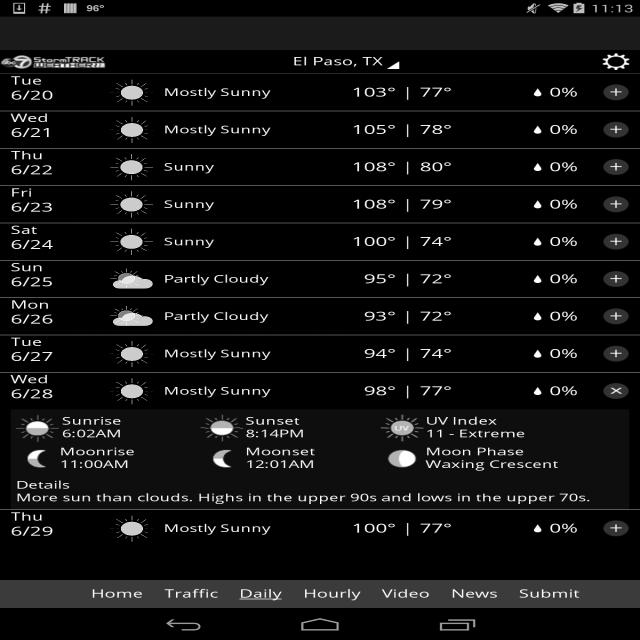ImageView: (0, 17, 640, 608), (0, 50, 107, 73), (15, 415, 60, 442), (110, 79, 153, 106), (110, 116, 153, 143), (110, 191, 153, 218), (110, 228, 153, 255), (110, 303, 153, 330), (110, 340, 153, 367), (15, 445, 58, 472), (110, 515, 153, 542), (201, 445, 243, 472), (381, 445, 423, 472), (110, 154, 153, 180), (110, 266, 153, 292), (110, 378, 153, 404), (201, 415, 243, 441), (381, 415, 423, 441), (603, 154, 629, 180), (603, 266, 629, 292), (603, 378, 629, 404), (603, 80, 629, 105), (603, 117, 629, 142), (603, 192, 629, 217), (603, 229, 629, 254), (603, 304, 629, 329), (603, 341, 629, 366), (603, 516, 629, 541), (597, 53, 635, 70), (524, 125, 549, 134), (524, 88, 549, 96), (524, 163, 549, 171), (524, 200, 549, 208), (524, 275, 549, 283), (524, 312, 549, 320), (524, 350, 549, 358), (524, 387, 549, 395), (524, 524, 549, 532), (524, 238, 549, 245)
TextView: (16, 491, 591, 504), (288, 50, 417, 73), (153, 86, 292, 99), (153, 123, 292, 136), (153, 198, 292, 211), (153, 235, 292, 248), (153, 310, 292, 323), (153, 347, 292, 360), (153, 522, 292, 535), (426, 458, 558, 471), (153, 161, 292, 173), (153, 273, 292, 285), (153, 385, 292, 397), (426, 427, 525, 440), (426, 445, 524, 458), (326, 159, 396, 175), (326, 271, 396, 287), (326, 383, 396, 399), (420, 159, 489, 175), (420, 271, 489, 287), (420, 383, 489, 399), (326, 85, 396, 100), (326, 122, 396, 137), (326, 197, 396, 212), (326, 234, 396, 249), (326, 309, 396, 324), (326, 346, 396, 361), (326, 521, 396, 536), (420, 85, 489, 100), (420, 122, 489, 137), (420, 197, 489, 212), (420, 234, 489, 249), (420, 309, 489, 324), (420, 346, 489, 361), (420, 521, 489, 536), (60, 445, 135, 458), (246, 445, 316, 458), (245, 458, 315, 471), (60, 458, 129, 471), (549, 159, 603, 175), (549, 271, 603, 287), (549, 383, 603, 399), (519, 587, 580, 601), (426, 415, 497, 427), (549, 85, 603, 100), (549, 122, 603, 137), (549, 197, 603, 212), (549, 234, 603, 249), (549, 309, 603, 324), (549, 346, 603, 361), (549, 521, 603, 536), (304, 587, 361, 601), (62, 427, 121, 440), (164, 587, 218, 601), (246, 427, 304, 440), (91, 587, 143, 601), (62, 415, 121, 427), (11, 162, 53, 178), (11, 274, 53, 290), (11, 386, 53, 402), (382, 587, 430, 601), (245, 415, 300, 427), (451, 587, 498, 601), (16, 479, 70, 491), (11, 88, 53, 103), (11, 125, 53, 140), (11, 200, 53, 215), (11, 237, 53, 252), (11, 312, 53, 327), (11, 349, 53, 364), (11, 524, 53, 539), (240, 587, 282, 601), (10, 298, 50, 312), (11, 111, 48, 125), (11, 373, 48, 386), (11, 510, 43, 524), (11, 74, 42, 88), (11, 335, 42, 349), (11, 149, 43, 162), (11, 261, 43, 274), (396, 159, 420, 175), (396, 271, 420, 287), (396, 383, 420, 399), (11, 223, 37, 237), (396, 85, 420, 100), (396, 122, 420, 137), (396, 197, 420, 212), (396, 234, 420, 249), (396, 309, 420, 324), (396, 346, 420, 361), (396, 521, 420, 536), (10, 186, 32, 200)
